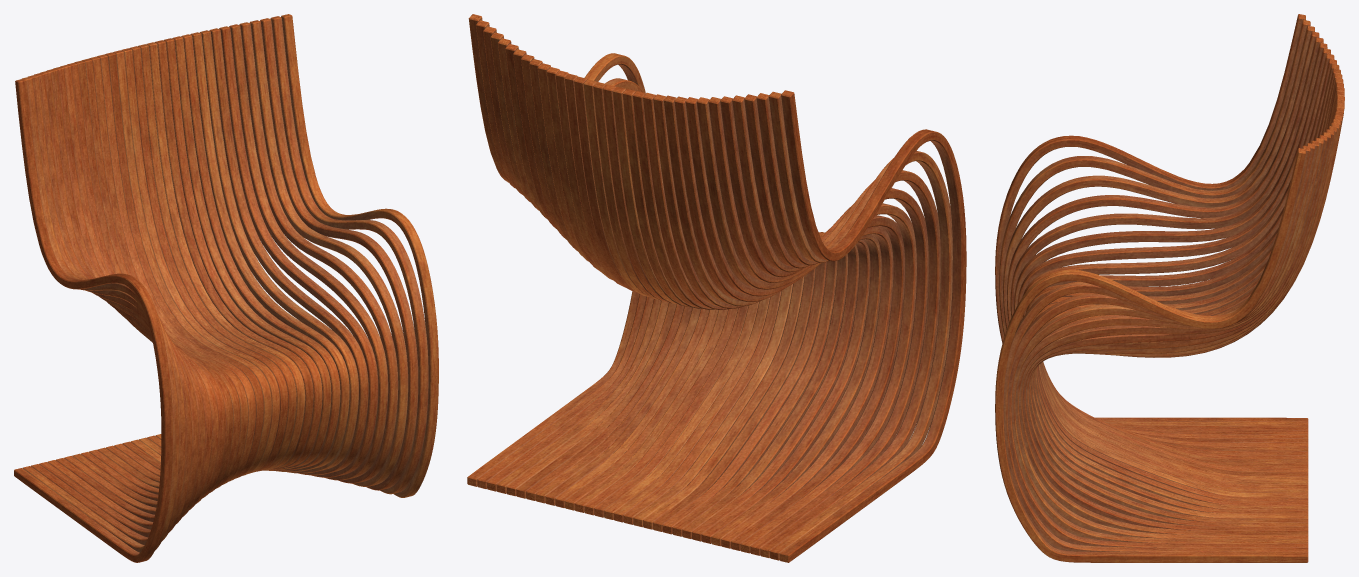
Rendered from pipo.fbx.
3 renders of one model, left to right at view 1: azimuth 30°, elevation 25°; view 2: azimuth 150°, elevation 25°; view 3: azimuth 270°, elevation 25°, orthographic. The views are drawn at different scales.
Parts seen in each view (by area): view 1: pipo_chair_fix; view 2: pipo_chair_fix; view 3: pipo_chair_fix.
Part boxes in pixels (<box>): pipo_chair_fix: <box>14,14,438,562</box>; pipo_chair_fix: <box>467,14,966,562</box>; pipo_chair_fix: <box>995,14,1344,562</box>.
Size of the model in its own units: 61.68 by 85.56 by 65.92.
